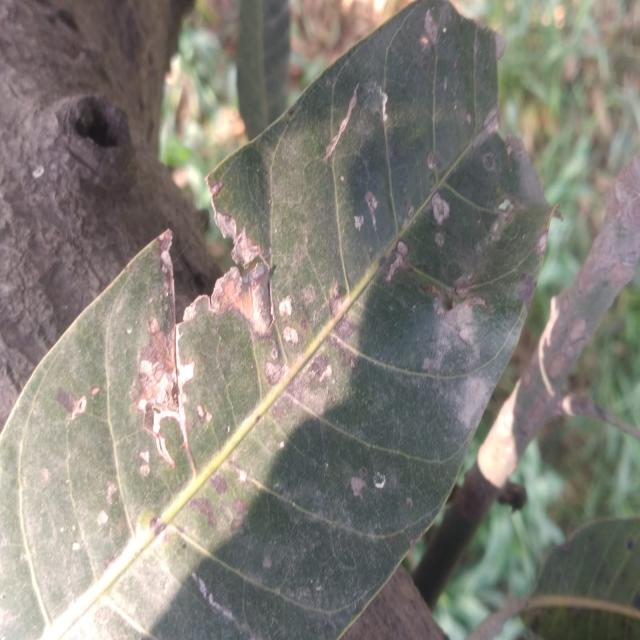Bacterial Cancer: (212, 189, 294, 335), (136, 317, 194, 439)
Powdery Mildew: (434, 290, 485, 416), (273, 286, 294, 323), (429, 194, 453, 219)
